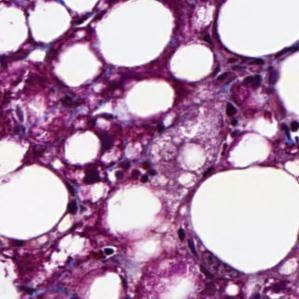inflammation: (208, 57, 280, 96), (80, 154, 158, 186), (271, 114, 299, 144), (64, 196, 93, 221)
